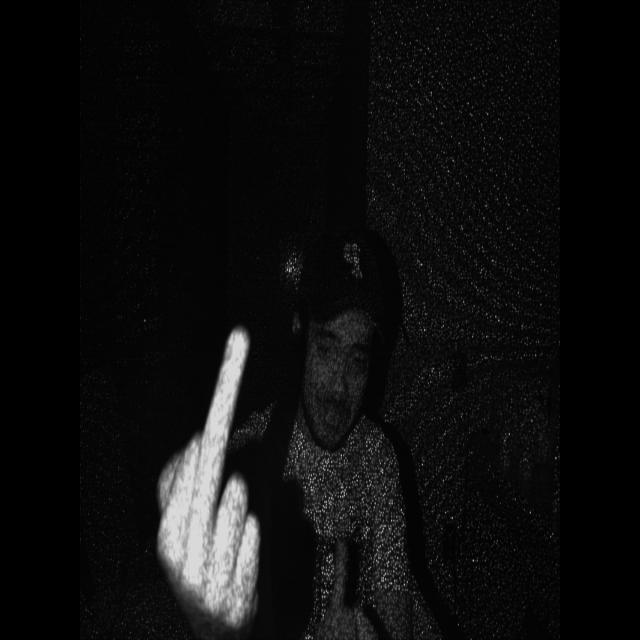FUCK YOU: (156, 316, 282, 617)
